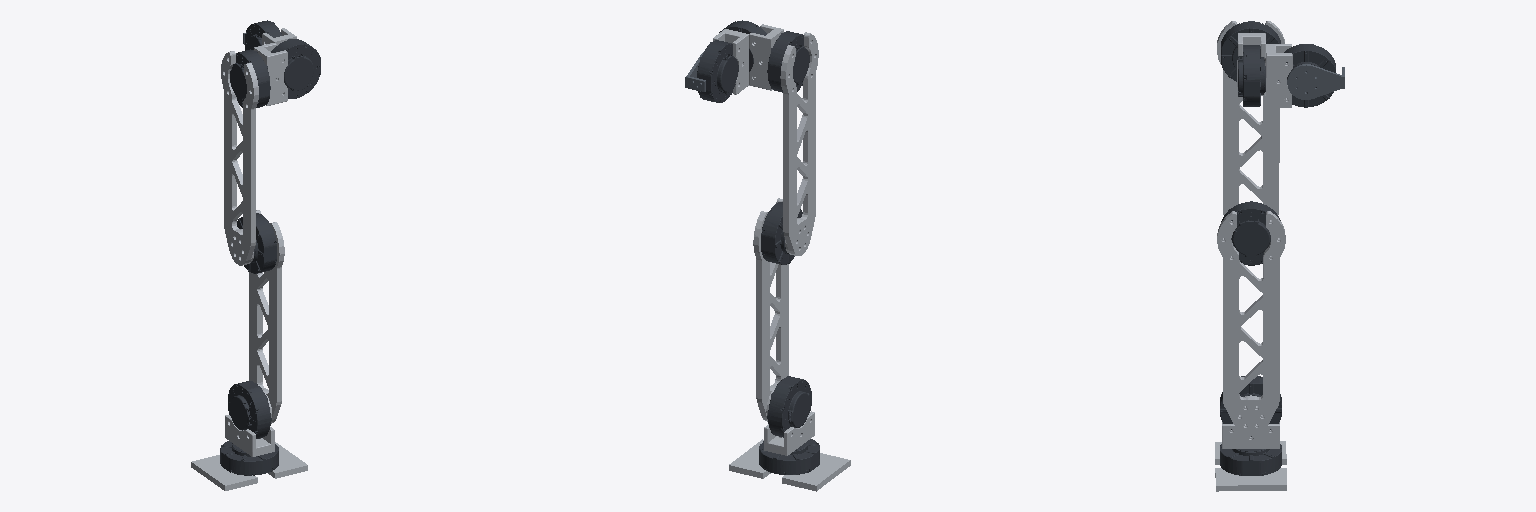
robot.urdf — qmini_arm:
<?xml version="1.0" ?>
<!-- =================================================================================== -->
<!-- |    This document was autogenerated by xacro from description/qmini_arm.urdf.xacro | -->
<!-- |    EDITING THIS FILE BY HAND IS NOT RECOMMENDED                                 | -->
<!-- =================================================================================== -->
<robot name="qmini_arm">
  <!--
    Generated from Qmini-arm-2+1+3.SLDASM.
    Joint zero matches the saved CAD pose. All meshes and dimensions use SI units.
  -->
  <material name="motor_gray">
    <color rgba="0.27 0.29 0.32 1.0"/>
  </material>
  <material name="link_silver">
    <color rgba="0.72 0.74 0.77 1.0"/>
  </material>
  <material name="tool_gray">
    <color rgba="0.40 0.43 0.47 1.0"/>
  </material>
  <!-- Keep the CAD-derived chain untouched and correct its global yaw here. -->
  <link name="world"/>
  <joint name="world_to_base" type="fixed">
    <origin rpy="0.74 -1.57 0" xyz="0 0 0"/>
    <parent link="world"/>
    <child link="base_link"/>
  </joint>
  <!-- Fixed GO-M8010-6 motor housing plus the new paired base plate. -->
  <link name="base_link">
    <inertial>
      <origin rpy="0 0 0" xyz="-0.001443936 0.000095279 0.000025880"/>
      <mass value="0.594063035"/>
      <inertia ixx="0.000935107" ixy="-8.83e-07" ixz="-3.09e-07" iyy="0.00055038" iyz="-9.025e-05" izz="0.000529948"/>
    </inertial>
    <visual>
      <origin rpy="0 0 0" xyz="0 0 0"/>
      <geometry>
        <mesh filename="meshes/visual/motor.stl"/>
      </geometry>
      <material name="motor_gray"/>
    </visual>
    <visual>
      <origin rpy="1.570796327 -0.726688605 -1.570796327" xyz="-0.013149996 -0.040727332 -0.045814406"/>
      <geometry>
        <mesh filename="meshes/visual/base_pair.stl"/>
      </geometry>
      <material name="link_silver"/>
    </visual>
    <collision>
      <origin rpy="0 1.570796327 0" xyz="0 0 0"/>
      <geometry>
        <cylinder length="0.0423" radius="0.04825"/>
      </geometry>
    </collision>
    <collision>
      <origin rpy="0 -0.726688605 -1.570796327" xyz="-0.018149996 0.000000291 -0.000000098"/>
      <geometry>
        <box size="0.11 0.01 0.15888"/>
      </geometry>
    </collision>
  </link>
  <!-- Output of motor 1: first orthogonal bracket and motor 2 housing. -->
  <link name="link_1">
    <inertial>
      <origin rpy="0 0 0" xyz="0.076902896 -0.000540190 -0.000692581"/>
      <mass value="0.567450382"/>
      <inertia ixx="0.000373485" ixy="1.852e-06" ixz="2.991e-06" iyy="0.00059489" iyz="0.000130888" izz="0.000625051"/>
    </inertial>
    <visual>
      <origin rpy="0 -0.726682211 -1.570796327" xyz="0.021150004 0.000000013 -0.000000002"/>
      <geometry>
        <mesh filename="meshes/visual/joint_bracket.stl"/>
      </geometry>
      <material name="link_silver"/>
    </visual>
    <visual>
      <origin rpy="-0.844107722 0.844114116 -1.570796327" xyz="0.082449884 0.000464880 0.000523357"/>
      <geometry>
        <mesh filename="meshes/visual/motor.stl"/>
      </geometry>
      <material name="motor_gray"/>
    </visual>
    <collision>
      <origin rpy="0 -0.726682211 -1.570796327" xyz="0.041150004 0.000000013 -0.000000002"/>
      <geometry>
        <box size="0.09 0.04 0.043"/>
      </geometry>
    </collision>
    <collision>
      <origin rpy="-2.555167956 0.457182902 2.555159402" xyz="0.082449884 0.000464880 0.000523357"/>
      <geometry>
        <cylinder length="0.0423" radius="0.04825"/>
      </geometry>
    </collision>
  </link>
  <!-- Output of motor 2: first long arm and motor 3 housing. -->
  <link name="link_2">
    <inertial>
      <origin rpy="0 0 0" xyz="0.016355333 0.193045983 -0.171512178"/>
      <mass value="0.676212997"/>
      <inertia ixx="0.005975646" ixy="0.000310486" ixz="-0.0002748" iyy="0.002778247" iyz="0.002539658" izz="0.003380604"/>
    </inertial>
    <visual>
      <origin rpy="3.141592654 0.726682211 1.570796327" xyz="0.026150004 0.224214862 -0.199318093"/>
      <geometry>
        <mesh filename="meshes/visual/arm_link.stl"/>
      </geometry>
      <material name="link_silver"/>
    </visual>
    <visual>
      <origin rpy="1.453370820 0 -3.141592654" xyz="0.013000008 0.224214994 -0.199318371"/>
      <geometry>
        <mesh filename="meshes/visual/motor.stl"/>
      </geometry>
      <material name="motor_gray"/>
    </visual>
    <collision>
      <origin rpy="3.141592654 0.726682211 1.570796327" xyz="0.028650004 0.117945600 -0.104848942"/>
      <geometry>
        <box size="0.3003 0.015 0.075"/>
      </geometry>
    </collision>
    <collision>
      <origin rpy="1.570796327 0.117425510 -1.570796327" xyz="0.013000008 0.224214994 -0.199318371"/>
      <geometry>
        <cylinder length="0.0423" radius="0.04825"/>
      </geometry>
    </collision>
  </link>
  <!-- Output of motor 3: second long arm and motor 4 housing. -->
  <link name="link_3">
    <inertial>
      <origin rpy="0 0 0" xyz="0.016353625 -0.193059219 0.171524730"/>
      <mass value="0.676213"/>
      <inertia ixx="0.0059635475" ixy="-0.000294104322" ixz="0.000262012657" iyy="0.00277030433" iyz="0.00254523994" izz="0.00337659291"/>
    </inertial>
    <visual>
      <origin rpy="0 -0.726682211 -1.570796327" xyz="0.026150004 -0.224214836 0.199318089"/>
      <geometry>
        <mesh filename="meshes/visual/arm_link.stl"/>
      </geometry>
      <material name="link_silver"/>
    </visual>
    <visual>
      <origin rpy="-1.688221837 0 -3.141592654" xyz="0.013000008 -0.224214968 0.199318367"/>
      <geometry>
        <mesh filename="meshes/visual/motor.stl"/>
      </geometry>
      <material name="motor_gray"/>
    </visual>
    <collision>
      <origin rpy="0 -0.726682211 -1.570796327" xyz="0.028650004 -0.117945574 0.104848938"/>
      <geometry>
        <box size="0.3003 0.015 0.075"/>
      </geometry>
    </collision>
    <collision>
      <origin rpy="-1.570796327 -0.117425510 1.570796327" xyz="0.013000008 -0.224214968 0.199318367"/>
      <geometry>
        <cylinder length="0.0423" radius="0.04825"/>
      </geometry>
    </collision>
  </link>
  <!-- Output of motor 4: third orthogonal bracket and motor 6 housing. -->
  <link name="link_4">
    <inertial>
      <origin rpy="0 0 0" xyz="0.076904739 -0.000544010 -0.000695119"/>
      <mass value="0.5674504"/>
      <inertia ixx="0.000383931992" ixy="1.966003e-06" ixz="1.138033e-06" iyy="0.000587346863" iyz="0.000135972895" izz="0.000620142776"/>
    </inertial>
    <visual>
      <origin rpy="0 -0.726682211 -1.570796327" xyz="0.021150004 0.000000013 -0.000000002"/>
      <geometry>
        <mesh filename="meshes/visual/joint_bracket.stl"/>
      </geometry>
      <material name="link_silver"/>
    </visual>
    <visual>
      <origin rpy="-0.844107722 0.844114116 -1.570796327" xyz="0.082449884 0.000464880 0.000523357"/>
      <geometry>
        <mesh filename="meshes/visual/motor.stl"/>
      </geometry>
      <material name="motor_gray"/>
    </visual>
    <collision>
      <origin rpy="0 -0.726682211 -1.570796327" xyz="0.041150004 0.000000013 -0.000000002"/>
      <geometry>
        <box size="0.09 0.04 0.043"/>
      </geometry>
    </collision>
    <collision>
      <origin rpy="-2.555167957 0.457182902 2.555159401" xyz="0.082449884 0.000464880 0.000523357"/>
      <geometry>
        <cylinder length="0.0423" radius="0.04825"/>
      </geometry>
    </collision>
  </link>
  <!-- Output of motor 6: wrist bracket and motor 5 housing. -->
  <link name="link_5">
    <inertial>
      <origin rpy="0 0 0" xyz="0.078231092 0.000626505 0.000621803"/>
      <mass value="0.5674504"/>
      <inertia ixx="0.000383932001" ixy="-3.118004e-06" ixz="-1.903156e-06" iyy="0.000586939761" iyz="0.000136055814" izz="0.000618330028"/>
    </inertial>
    <visual>
      <origin rpy="3.141592654 0.726682211 1.570796327" xyz="0.022650004 0.000000013 -0.000000002"/>
      <geometry>
        <mesh filename="meshes/visual/joint_bracket.stl"/>
      </geometry>
      <material name="link_silver"/>
    </visual>
    <visual>
      <origin rpy="-0.844107722 -0.844114116 1.570796327" xyz="0.083950124 -0.000465277 -0.000522985"/>
      <geometry>
        <mesh filename="meshes/visual/motor.stl"/>
      </geometry>
      <material name="motor_gray"/>
    </visual>
    <collision>
      <origin rpy="3.141592654 0.726682211 1.570796327" xyz="0.042650004 0.000000013 -0.000000002"/>
      <geometry>
        <box size="0.09 0.04 0.043"/>
      </geometry>
    </collision>
    <collision>
      <origin rpy="-0.586424697 0.457182902 0.586433252" xyz="0.083950124 -0.000465277 -0.000522985"/>
      <geometry>
        <cylinder length="0.0423" radius="0.04825"/>
      </geometry>
    </collision>
  </link>
  <!-- Output of motor 5: end-effector mounting bracket. -->
  <link name="link_6">
    <inertial>
      <origin rpy="0 0 0" xyz="0.021295905 -0.013071630 0.011629218"/>
      <mass value="0.0166536"/>
      <inertia ixx="1.4346087e-05" ixy="-1.170045e-06" ixz="1.043159e-06" iyy="7.453285e-06" iyz="4.348922e-06" izz="8.467991e-06"/>
    </inertial>
    <visual>
      <origin rpy="-3.141592654 -0.726682211 -1.570796327" xyz="0.026150004 0.000000013 -0.000000002"/>
      <geometry>
        <mesh filename="meshes/visual/tool_mount.stl"/>
      </geometry>
      <material name="tool_gray"/>
    </visual>
    <collision>
      <origin rpy="-3.141592654 -0.726682211 -1.570796327" xyz="0.008650004 -0.011444917 0.010174086"/>
      <geometry>
        <box size="0.0894 0.035 0.059"/>
      </geometry>
    </collision>
  </link>
  <link name="tool0"/>
  <joint name="joint_1" type="revolute">
    <origin rpy="0 0 0" xyz="0 0 0"/>
    <parent link="base_link"/>
    <child link="link_1"/>
    <axis xyz="1 0 0"/>
    <limit effort="23.7" lower="-3.141592654" upper="3.141592654" velocity="3.0"/>
    <dynamics damping="0.08" friction="0.0"/>
    <safety_controller k_position="20.0" k_velocity="2.0" soft_lower_limit="-2.967059728" soft_upper_limit="2.967059728"/>
  </joint>
  <joint name="joint_2" type="revolute">
    <origin rpy="0.7259 0.844114116 -1.570796327" xyz="0.082449884 0.000464880 0.000523357"/>
    <parent link="link_1"/>
    <child link="link_2"/>
    <axis xyz="1 0 0"/>
    <limit effort="23.7" lower="-1.75" upper="1.75" velocity="3.0"/>
    <dynamics damping="0.08" friction="0.0"/>
    <safety_controller k_position="20.0" k_velocity="2.0" soft_lower_limit="-1.57" soft_upper_limit="1.57"/>
  </joint>
  <joint name="joint_3" type="revolute">
    <origin rpy="1.453370820 0 -3.141592654" xyz="0.013000008 0.224214994 -0.199318371"/>
    <parent link="link_2"/>
    <child link="link_3"/>
    <axis xyz="1 0 0"/>
    <limit effort="23.7" lower="-2.62" upper="2.62" velocity="3.0"/>
    <dynamics damping="0.08" friction="0.0"/>
    <safety_controller k_position="20.0" k_velocity="2.0" soft_lower_limit="-2.00712864" soft_upper_limit="2.00712864"/>
  </joint>
  <joint name="joint_4" type="revolute">
    <origin rpy="1.45178 0 -3.141592654" xyz="0.013000008 -0.224214968 0.199318367"/>
    <parent link="link_3"/>
    <child link="link_4"/>
    <axis xyz="1 0 0"/>
    <limit effort="23.7" lower="-2.094395102" upper="2.094395102" velocity="3.0"/>
    <dynamics damping="0.08" friction="0.0"/>
    <safety_controller k_position="20.0" k_velocity="2.0" soft_lower_limit="-2.0" soft_upper_limit="2.0"/>
  </joint>
  <joint name="joint_5" type="revolute">
    <origin rpy="-0.844107722 0.844114116 -1.570796327" xyz="0.082449884 0.000464880 0.000523357"/>
    <parent link="link_4"/>
    <child link="link_5"/>
    <axis xyz="1 0 0"/>
    <limit effort="23.7" lower="-2.094395102" upper="2.094395102" velocity="3.0"/>
    <dynamics damping="0.08" friction="0.0"/>
    <safety_controller k_position="20.0" k_velocity="2.0" soft_lower_limit="-2.00712864" soft_upper_limit="2.00712864"/>
  </joint>
  <joint name="joint_6" type="revolute">
    <origin rpy="0.7259 -0.844114116 1.570796327" xyz="0.083950124 -0.000465277 -0.000522985"/>
    <parent link="link_5"/>
    <child link="link_6"/>
    <axis xyz="1 0 0"/>
    <limit effort="23.7" lower="-1.57" upper="1.57" velocity="3.0"/>
    <dynamics damping="0.08" friction="0.0"/>
    <safety_controller k_position="20.0" k_velocity="2.0" soft_lower_limit="-1.5" soft_upper_limit="1.5"/>
  </joint>
  <joint name="tool0_fixed_joint" type="fixed">
    <origin rpy="-3.141592653 -0.726675817 -1.570796327" xyz="0.008650004 -0.044843211 0.039863329"/>
    <parent link="link_6"/>
    <child link="tool0"/>
  </joint>
</robot>

--- Facts derived from the render (not from the file) ---
3 views of the same robot in one strip: view 1: azimuth 30°, elevation 25°; view 2: azimuth 150°, elevation 25°; view 3: azimuth 270°, elevation 25° (orthographic).
Robot: qmini_arm — 9 links, 8 joints (6 revolute, 2 fixed); root link world; default pose: every joint at zero.
Visible links, largest first — view 1: link_3, link_2, base_link, link_4, link_1, link_5; view 2: link_3, link_2, base_link, link_1, link_5, link_4; view 3: link_2, link_3, base_link, link_5, link_4, link_1, link_6.
Boxes of the visible links, x1,y1,x2,y2 form: link_3: [221, 49, 270, 265]; link_2: [237, 210, 284, 423]; base_link: [191, 441, 307, 490]; link_4: [254, 39, 320, 105]; link_1: [225, 381, 274, 456]; link_5: [245, 20, 296, 50]; link_3: [767, 31, 818, 255]; link_2: [753, 198, 802, 421]; base_link: [729, 439, 850, 491]; link_1: [764, 376, 814, 455]; link_5: [697, 29, 748, 102]; link_4: [719, 20, 783, 90]; link_2: [1217, 201, 1285, 433]; link_3: [1217, 21, 1284, 214]; base_link: [1215, 441, 1286, 491]; link_5: [1266, 44, 1335, 107]; link_4: [1237, 33, 1265, 106]; link_1: [1220, 376, 1281, 448]; link_6: [1287, 64, 1344, 99].
Size in the robot's own frame: 0.2089 by 0.2012 by 0.7539 metres.
13 mesh visuals loaded from 5 distinct referenced files (5 binary STL).
